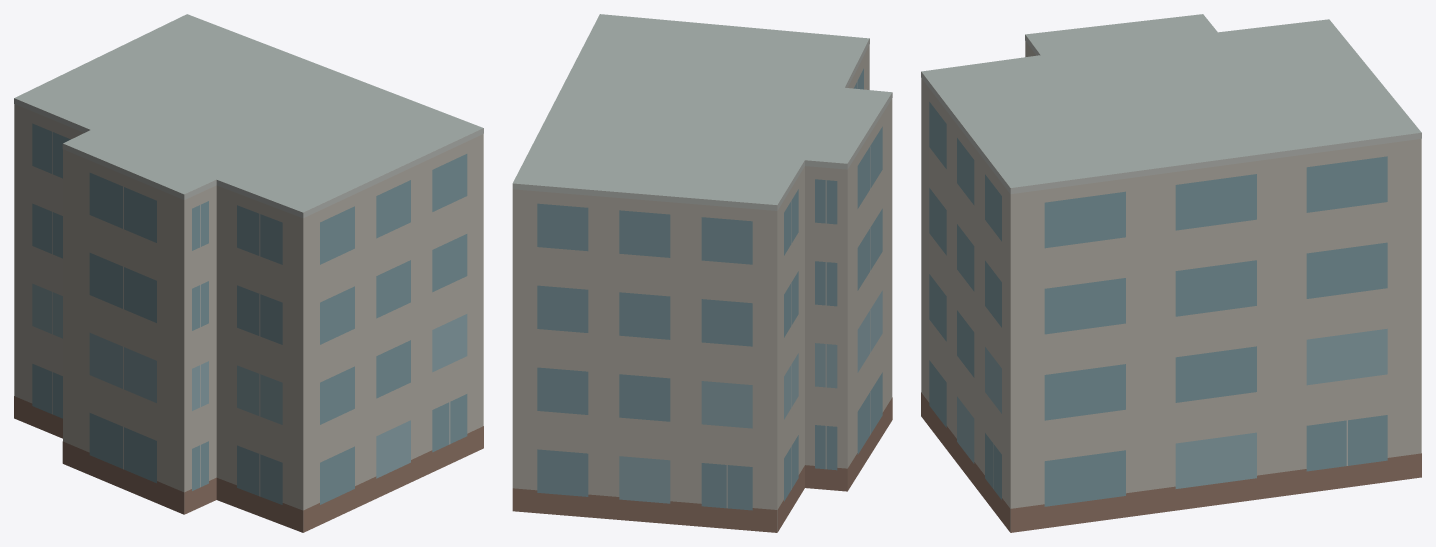
File: survey-upis-33044475.glb
3 views of the same model, side by side, from view 1: azimuth 30°, elevation 25°; view 2: azimuth 150°, elevation 25°; view 3: azimuth 270°, elevation 25° (orthographic). The views are drawn at different scales.
Parts seen in each view (by area): view 1: survey-upis-33044475.tmp; view 2: survey-upis-33044475.tmp; view 3: survey-upis-33044475.tmp.
Part boxes in pixels (x1,y1,x2,y2): survey-upis-33044475.tmp: (14, 14, 483, 532); survey-upis-33044475.tmp: (512, 14, 892, 532); survey-upis-33044475.tmp: (921, 14, 1421, 532).
Bounding box in the file's own units: 14.85 × 13.7 × 18.04.
